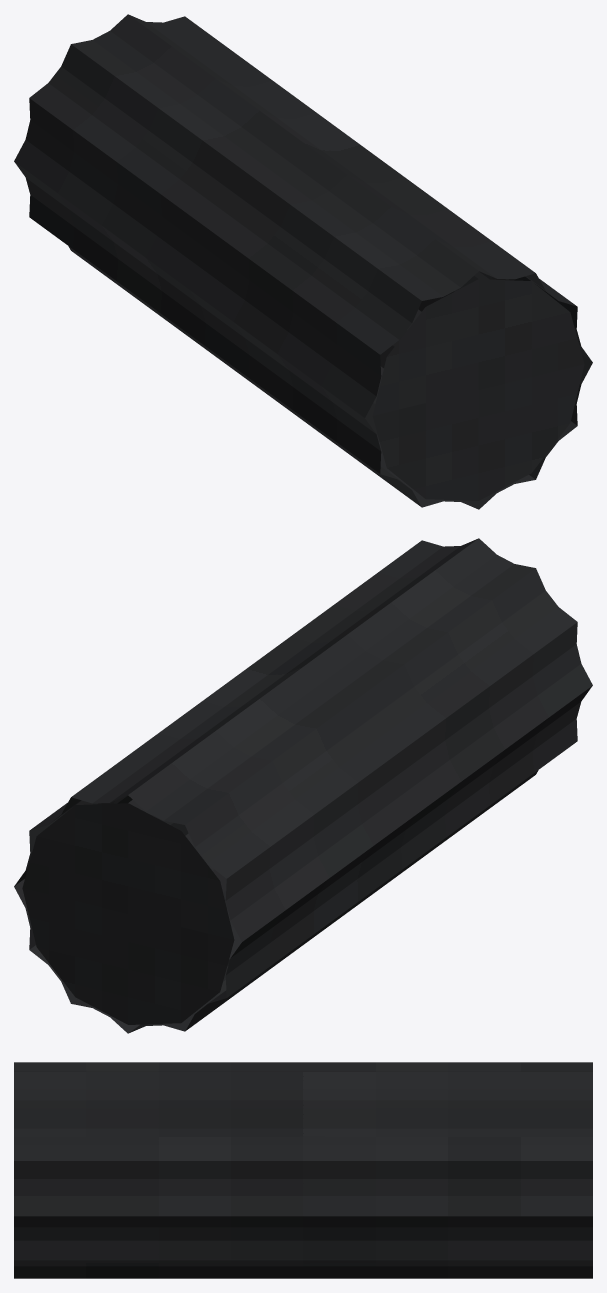
File: decopole_anaheim_shaft.obj
The picture shows the model from 3 angles, top to bottom: view 1: azimuth 30°, elevation 25°; view 2: azimuth 150°, elevation 25°; view 3: azimuth 270°, elevation 25°; orthographic projection. The views are drawn at different scales.
Visible parts, largest first — view 1: decopole_anaheim_shaft; view 2: decopole_anaheim_shaft; view 3: decopole_anaheim_shaft.
Boxes of the visible parts, left/top/right/bottom form: decopole_anaheim_shaft: left=14, top=14, right=592, bottom=509; decopole_anaheim_shaft: left=14, top=538, right=592, bottom=1033; decopole_anaheim_shaft: left=14, top=1062, right=592, bottom=1278.
Size of the model in its own units: 0.375 by 0.375 by 1.
